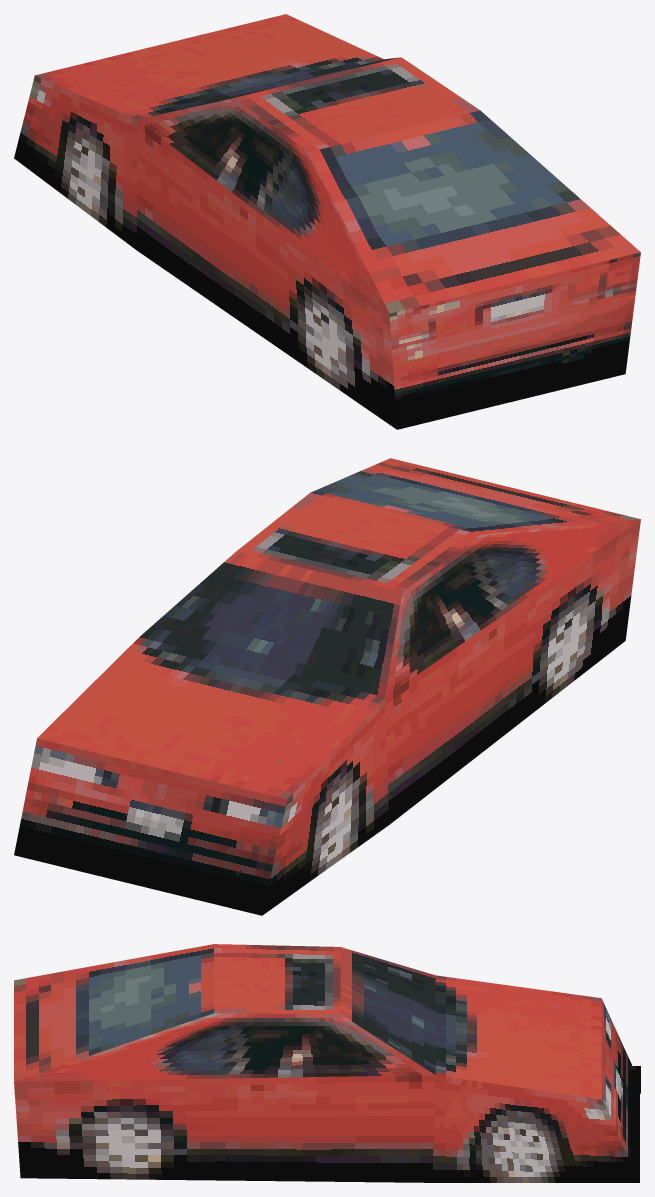
Rendered from car-prelude.glb.
3 views of the same model, one above another, from view 1: azimuth 30°, elevation 25°; view 2: azimuth 150°, elevation 25°; view 3: azimuth 270°, elevation 25° (orthographic). The views are drawn at different scales.
Visible parts, largest first — view 1: car-prelude; view 2: car-prelude; view 3: car-prelude.
Part boxes in pixels (x1,y1,x2,y2): car-prelude: (14, 14, 640, 429); car-prelude: (14, 458, 640, 915); car-prelude: (14, 944, 640, 1182).
Bounding box in the file's own units: 1.72 × 1.21 × 4.48.
15 materials, 15 textured.
